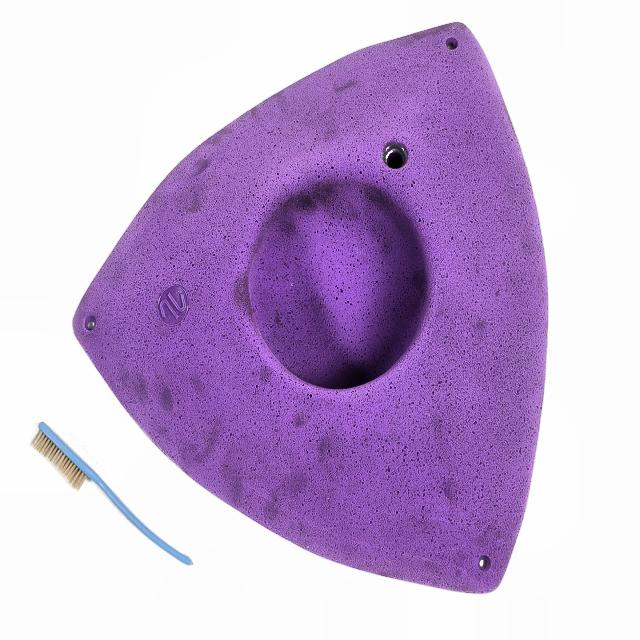Hold: (63, 26, 556, 602)
